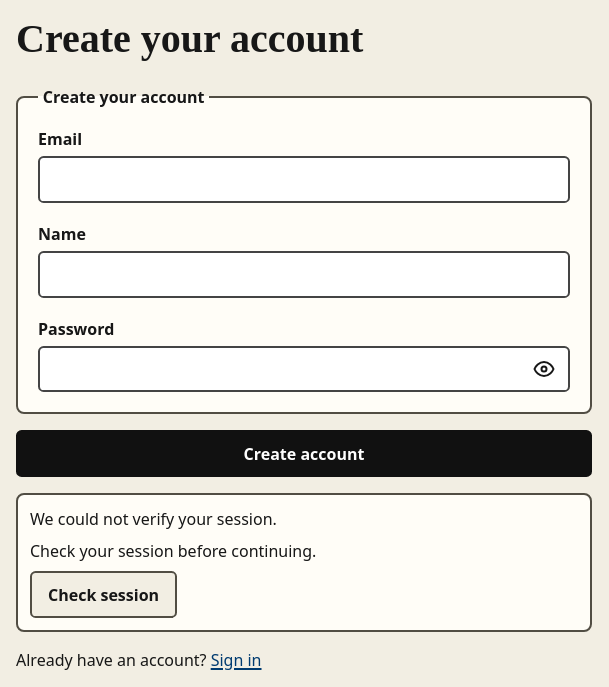
Test case: signup-form: › locks a pending submit and navigates only after the controller confirms identity
Type "ada@example.test" into the field labelled "Email" at (304, 179), box left=38, top=156, right=570, bottom=203
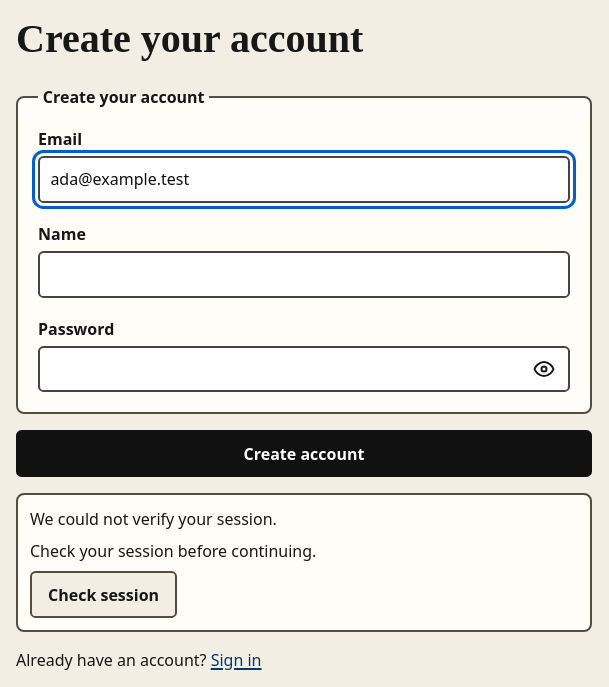
Type "Ada Example" into the field labelled "Name" at (304, 274), box left=38, top=251, right=570, bottom=298
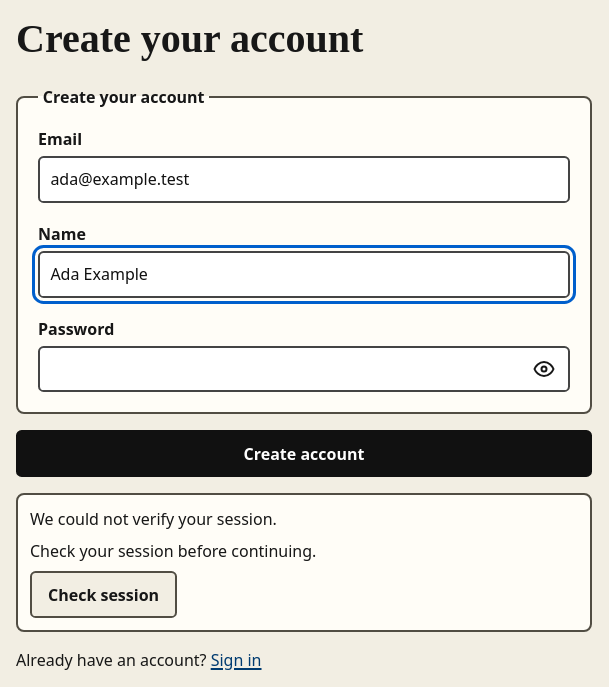
Type "Abcdef1!" into the password field labelled "Password" at (304, 369), box left=38, top=346, right=570, bottom=392
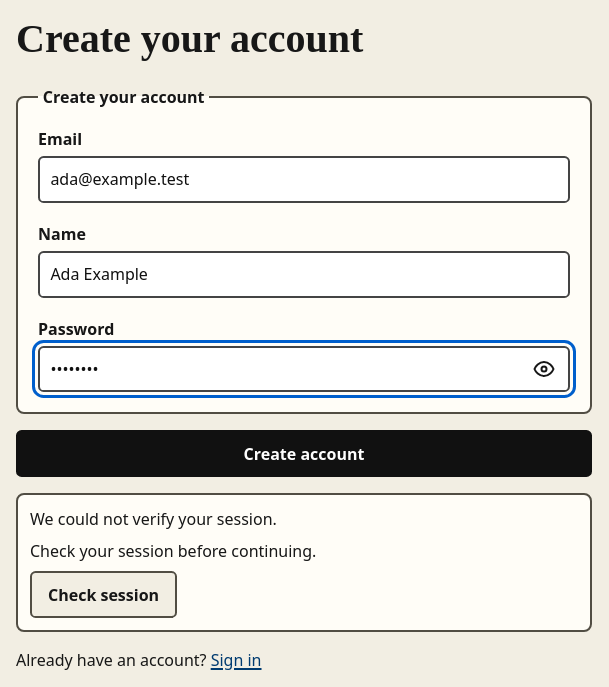
Click the button "Create account" at (304, 454), box left=16, top=430, right=592, bottom=477
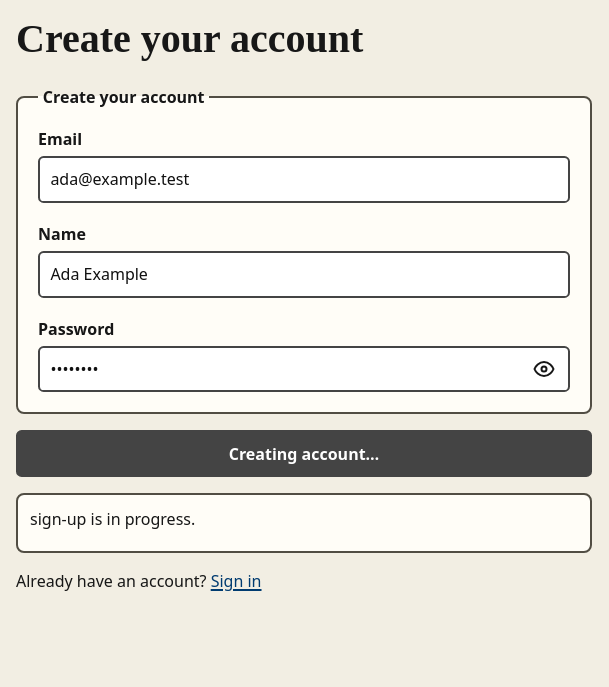
expect the button "Creating account…" is disabled: met
Click the button "Creating account…" at (304, 454), box left=16, top=430, right=592, bottom=477
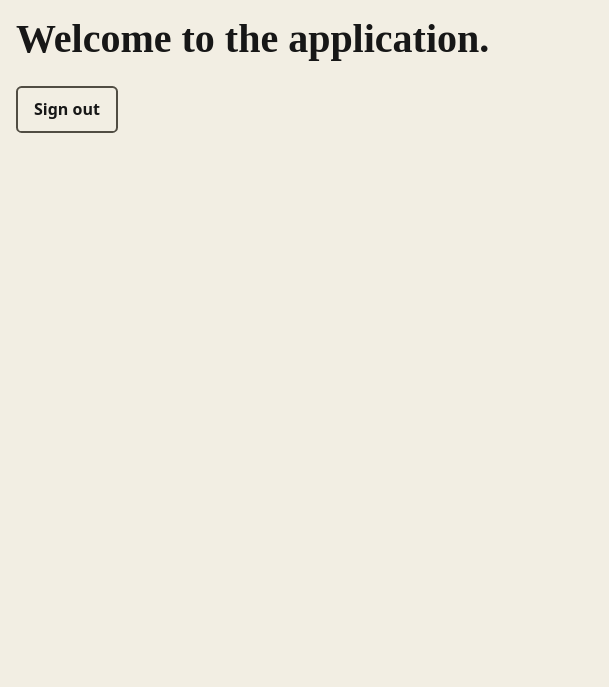
expect the heading "Welcome to the application." is shown: met, box left=16, top=16, right=489, bottom=61
expect the message "sign-up is in progress." is gone: met
